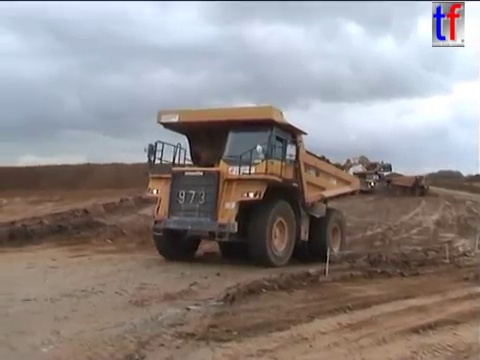excavator: (332, 154, 394, 180)
truck: (142, 103, 363, 269), (383, 174, 429, 197), (350, 169, 376, 194)
